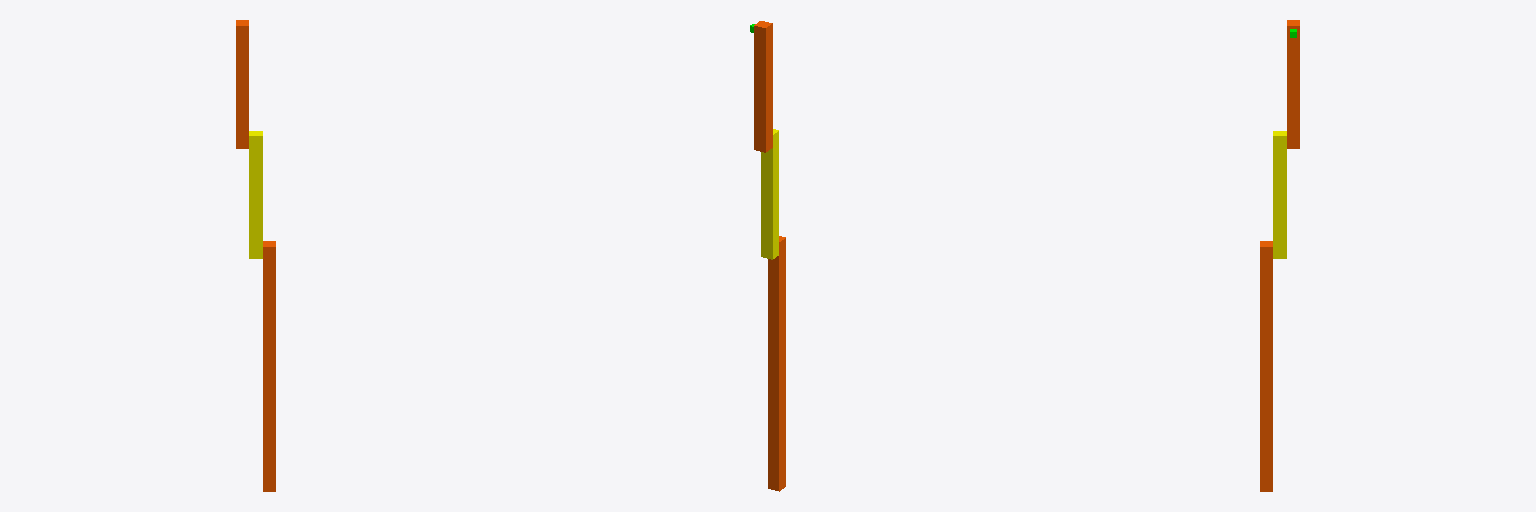
robot.urdf — rrbot:
<?xml version="1.0" ?>
<!-- =================================================================================== -->
<!-- |    This document was autogenerated by xacro from src/robot_gazebo/xacro/rrbot.xacro | -->
<!-- |    EDITING THIS FILE BY HAND IS NOT RECOMMENDED                                 | -->
<!-- =================================================================================== -->
<robot name="rrbot">
  <!-- ****************************************************** RRBot Robot **************************************************************  -->
  <!-- Muthanna Alwahash                                                                                                                  -->
  <!-- March 2022                                                                                                                         -->
  <!-- *********************************************************************************************************************************  -->
  <!-- ****************************************************** Parameters ***************************************************************  -->
  <!-- Link 3 -->
  <!-- ****************************************************** Includes *****************************************************************  -->
  <material name="red">
    <color rgba="1.0 0.0 0.0 1.0"/>
  </material>
  <material name="green">
    <color rgba="0.0 1.0 0.0 1.0"/>
  </material>
  <material name="blue">
    <color rgba="0.0 0.0 1.0 1.0"/>
  </material>
  <material name="black">
    <color rgba="0.3 0.3 0.3 1.0"/>
  </material>
  <material name="white">
    <color rgba="1.0 1.0 1.0 1.0"/>
  </material>
  <material name="grey">
    <color rgba="0.2 0.2 0.2 1.0"/>
  </material>
  <material name="orange">
    <color rgba="1.0 0.4235294117647059 0.0392156862745098 1.0"/>
  </material>
  <material name="brown">
    <color rgba="0.8705882352941177 0.8117647058823529 0.7647058823529411 1.0"/>
  </material>
  <material name="yellow">
    <color rgba="1.0 1.0 0.0 1.0"/>
  </material>
  <!-- ****************************************************** RRBot Robot **************************************************************  -->
  <!-- Muthanna Alwahash                                                                                                                  -->
  <!-- March 2022                                                                                                                         -->
  <!-- *********************************************************************************************************************************  -->
  <!-- ****************************************************** Base Link ****************************************************************  -->
  <gazebo reference="base">
    <mu1>0.2</mu1>
    <mu2>0.2</mu2>
    <material>Gazebo/Orange</material>
  </gazebo>
  <!-- ****************************************************** Link 1 *******************************************************************  -->
  <gazebo reference="link2">
    <mu1>0.2</mu1>
    <mu2>0.2</mu2>
    <material>Gazebo/Orange</material>
  </gazebo>
  <!-- ****************************************************** Link 2 *******************************************************************  -->
  <gazebo reference="link3">
    <mu1>0.2</mu1>
    <mu2>0.2</mu2>
    <material>Gazebo/Orange</material>
  </gazebo>
  <!-- ****************************************************** Camera Link **************************************************************  -->
  <gazebo reference="camera">
    <mu1>0.2</mu1>
    <mu2>0.2</mu2>
    <material>Gazebo/Green</material>
  </gazebo>
  <!-- ****************************************************** World Link ****************************************************************  -->
  <link name="world"/>
  <gazebo reference="world">
    <static>true</static>
  </gazebo>
  <!-- ****************************************************** ROS Control Plugin *******************************************************  -->
  <gazebo>
    <plugin filename="libgazebo_ros2_control.so" name="gz_ros2_control">
      <parameters>[local-path]/ws/install/robot_gazebo/share/robot_gazebo/config/rrbot_gazebo_forward_controller_position.yaml</parameters>
    </plugin>
  </gazebo>
  <!-- ******************************************************  Joint States Publisher **************************************************  -->
  <gazebo>
    <plugin filename="libgazebo_ros_joint_state_publisher.so" name="joint_states_pub">
      <ros>
        <namespace>rrbot</namespace>
      </ros>
      <joint_name>base_joint</joint_name>
      <joint_name>joint1</joint_name>
      <joint_name>joint2</joint_name>
      <update_rate>100.0</update_rate>
    </plugin>
  </gazebo>
  <!-- ******************************************************  Camera ******************************************************************  -->
  <gazebo reference="camera">
    <sensor name="camera" type="camera">
      <update_rate>30.0</update_rate>
      <camera name="head">
        <horizontal_fov>1.3962634015954636</horizontal_fov>
        <image>
          <width>1280</width>
          <height>720</height>
          <format>R8G8B8</format>
        </image>
        <clip>
          <near>0.02</near>
          <far>300</far>
        </clip>
        <noise>
          <type>gaussian</type>
          <!-- Noise is sampled independently per pixel on each frame.
          That pixel's noise value is added to each of its color
          channels, which at that point lie in the range [0,1]. -->
          <mean>0.0</mean>
          <stddev>0.007</stddev>
        </noise>
      </camera>
      <plugin filename="libgazebo_ros_camera.so" name="camera_controller">
        <ros>
          <namespace>rrbot</namespace>
        </ros>
        <alwaysOn>true</alwaysOn>
        <updateRate>0.0</updateRate>
        <cameraName>camera</cameraName>
        <imageTopicName>image_raw</imageTopicName>
        <cameraInfoTopicName>camera_info</cameraInfoTopicName>
        <frameName>camera_optical</frameName>
        <!-- setting hackBaseline to anything but 0.0 will cause a misalignment
        between the gazebo sensor image and the frame it is supposed to
        be attached to -->
        <hackBaseline>0.0</hackBaseline>
        <distortionK1>0.0</distortionK1>
        <distortionK2>0.0</distortionK2>
        <distortionK3>0.0</distortionK3>
        <distortionT1>0.0</distortionT1>
        <distortionT2>0.0</distortionT2>
        <CxPrime>0</CxPrime>
        <Cx>0.0</Cx>
        <Cy>0.0</Cy>
        <focalLength>0.0</focalLength>
      </plugin>
    </sensor>
    <material>Gazebo/Green</material>
  </gazebo>
  <!-- ****************************************************** hokuyo  ******************************************************************  -->
  <gazebo reference="hokuyo">
    <sensor name="head_hokuyo_sensor" type="ray">
      <plugin filename="libgazebo_ros_ray_sensor.so" name="hokuyo">
        <ros>
          <namespace>rrbot</namespace>
        </ros>
        <output_type>sensor_msgs/LaserScan</output_type>
      </plugin>
      <update_rate>30</update_rate>
      <pose>0 0 0 0 0 0</pose>
      <visualize>false</visualize>
      <ray>
        <scan>
          <horizontal>
            <samples>720</samples>
            <resolution>1</resolution>
            <min_angle>-3.141592653589793</min_angle>
            <max_angle> 3.141592653589793</max_angle>
          </horizontal>
        </scan>
        <range>
          <min>0.10</min>
          <max>30.0</max>
          <resolution>0.01</resolution>
        </range>
        <!-- Noise parameters based on published spec for Hokuyo laser achieving "+-30mm" accuracy at range < 10m.  A mean of 0.0m and stddev   -->
        <!-- of 0.01m will put 99.7% of samples within 0.03m of the true reading.                                                               -->
        <noise>
          <type>gaussian</type>
          <mean>0.0</mean>
          <stddev>0.01</stddev>
        </noise>
      </ray>
    </sensor>
    <!-- <material>Gazebo/Red</material> -->
  </gazebo>
  <!-- ****************************************************** END **********************************************************************  -->
  <!--  Gazebo                                    -->
  <!-- ****************************************************** Base Joint ***************************************************************  -->
  <joint name="base_joint" type="fixed">
    <origin rpy="0 0 0" xyz="0 0 0"/>
    <parent link="world"/>
    <child link="base"/>
  </joint>
  <!-- ****************************************************** Base Link ****************************************************************  -->
  <link name="base">
    <collision>
      <origin rpy="0 0 0" xyz="0 0 1.0"/>
      <geometry>
        <box size="0.1 0.1 2"/>
      </geometry>
    </collision>
    <visual>
      <origin rpy="0 0 0" xyz="0 0 1.0"/>
      <geometry>
        <box size="0.1 0.1 2"/>
      </geometry>
      <material name="orange"/>
    </visual>
    <inertial>
      <origin rpy="0 0 0" xyz="0 0 1.0"/>
      <mass value="1"/>
      <inertia ixx="0.3341666666666666" ixy="0.0" ixz="0.0" iyy="0.3341666666666666" iyz="0.0" izz="0.001666666666666667"/>
    </inertial>
  </link>
  <!-- ****************************************************** Joint 1 ******************************************************************  -->
  <joint name="joint1" type="continuous">
    <parent link="base"/>
    <child link="link2"/>
    <origin rpy="0 0 0" xyz="0 0.1 1.95"/>
    <axis xyz="0 1 0"/>
    <dynamics damping="0.7"/>
  </joint>
  <!-- ****************************************************** Link 2 *******************************************************************  -->
  <link name="link2">
    <collision>
      <origin rpy="0 0 0" xyz="0 0 0.45"/>
      <geometry>
        <box size="0.1 0.1 1"/>
      </geometry>
    </collision>
    <visual>
      <origin rpy="0 0 0" xyz="0 0 0.45"/>
      <geometry>
        <box size="0.1 0.1 1"/>
      </geometry>
      <material name="yellow"/>
    </visual>
    <inertial>
      <origin rpy="0 0 0" xyz="0 0 0.45"/>
      <mass value="1"/>
      <inertia ixx="0.08416666666666667" ixy="0.0" ixz="0.0" iyy="0.08416666666666667" iyz="0.0" izz="0.001666666666666667"/>
    </inertial>
  </link>
  <!-- ****************************************************** Joint 2 ******************************************************************  -->
  <joint name="joint2" type="continuous">
    <parent link="link2"/>
    <child link="link3"/>
    <origin rpy="0 0 0" xyz="0 0.1 0.9"/>
    <axis xyz="0 1 0"/>
    <dynamics damping="0.7"/>
  </joint>
  <!-- ****************************************************** Link 3 *******************************************************************  -->
  <link name="link3">
    <collision>
      <origin rpy="0 0 0" xyz="0 0 0.45"/>
      <geometry>
        <box size="0.1 0.1 1"/>
      </geometry>
    </collision>
    <visual>
      <origin rpy="0 0 0" xyz="0 0 0.45"/>
      <geometry>
        <box size="0.1 0.1 1"/>
      </geometry>
      <material name="orange"/>
    </visual>
    <inertial>
      <origin rpy="0 0 0" xyz="0 0 0.45"/>
      <mass value="1"/>
      <inertia ixx="0.08416666666666667" ixy="0.0" ixz="0.0" iyy="0.08416666666666667" iyz="0.0" izz="0.001666666666666667"/>
    </inertial>
  </link>
  <!-- ****************************************************** Tool Joint ***************************************************************  -->
  <joint name="tool_joint" type="fixed">
    <origin rpy="0 0 0" xyz="0 0 1"/>
    <parent link="link3"/>
    <child link="tool"/>
  </joint>
  <!-- ****************************************************** Tool Link ****************************************************************  -->
  <link name="tool"/>
  <!-- ****************************************************** Camera Joint *************************************************************  -->
  <joint name="camera_joint" type="fixed">
    <axis xyz="0 1 0"/>
    <origin rpy="0 0 0" xyz="0.07500000000000001 0 0.9"/>
    <parent link="link3"/>
    <child link="camera"/>
  </joint>
  <!-- ****************************************************** Camera Link **************************************************************  -->
  <link name="camera">
    <inertial>
      <mass value="1e-05"/>
      <origin rpy=" 0 0 0" xyz="0 0 0"/>
      <inertia ixx="1e-6" ixy="0" ixz="0" iyy="1e-6" iyz="0" izz="1e-6"/>
    </inertial>
    <visual name="camera_visual">
      <origin rpy="0 0 0" xyz="0 0 0"/>
      <geometry>
        <box size="0.05 0.05 0.05"/>
      </geometry>
      <material name="green"/>
    </visual>
    <collision name="camera_colision">
      <origin rpy="0 0 0" xyz="0 0 0"/>
      <geometry>
        <box size="0.05 0.05 0.05"/>
      </geometry>
    </collision>
  </link>
  <!-- ****************************************************** Camera Optical Joint *****************************************************  -->
  <!-- generate an optical frame http://www.ros.org/reps/rep-0103.html#suffix-frames so that ros and opencv can operate on the camera     -->
  <!-- frame correctly. these values have to be these values otherwise the gazebo camera image won't be aligned properly with the frame   -->
  <!-- it is supposedly originating from                                                                                                  -->
                                                                                                                     --&gt;

  
  <joint name="camera_optical_joint" type="fixed">
    <origin rpy="-1.5707963267948966 0 -1.5707963267948966" xyz="0 0 0"/>
    <parent link="camera"/>
    <child link="camera_optical"/>
  </joint>
  <!-- ****************************************************** Camera Optical Link ******************************************************  -->
  <link name="camera_optical"/>
  <!-- ****************************************************** Hokuyo Joint *************************************************************  -->
  <joint name="hokuyo_joint" type="fixed">
    <axis xyz="0 1 0"/>
    <origin rpy="0 0 0" xyz="0 0 0.975"/>
    <parent link="link3"/>
    <child link="hokuyo"/>
  </joint>
  <!-- ****************************************************** Hokuyo Link **************************************************************  -->
  <link name="hokuyo">
    <collision>
      <origin rpy="0 0 0" xyz="0 0 0"/>
      <geometry>
        <mesh filename="package://robot_gazebo/meshes/rrbot/hokuyo.dae"/>
        <!--  <box size="${hokuyo_length} ${hokuyo_width} ${hokuyo_height}"/> -->
      </geometry>
    </collision>
    <visual>
      <origin rpy="0 0 0" xyz="0 0 0"/>
      <geometry>
        <mesh filename="package://robot_gazebo/meshes/rrbot/hokuyo.dae"/>
        <!--  <box size="${hokuyo_length} ${hokuyo_width} ${hokuyo_height}"/> -->
      </geometry>
    </visual>
    <inertial>
      <mass value="1e-05"/>
      <origin rpy="0 0 0" xyz="0 0 0"/>
      <inertia ixx="1e-6" ixy="0" ixz="0" iyy="1e-6" iyz="0" izz="1e-6"/>
    </inertial>
  </link>
  <!-- ****************************************************** END **********************************************************************  -->
</robot>

--- Render facts (derived) ---
3 views of the same robot in one strip: view 1: azimuth 90°, elevation 25°; view 2: azimuth 150°, elevation 25°; view 3: azimuth 270°, elevation 25° (orthographic).
Robot: rrbot — 8 links, 7 joints (2 continuous, 5 fixed); root link world; default pose: every joint at zero.
Visible links, largest first — view 1: base, link2, link3; view 2: base, link3, link2; view 3: base, link2, link3.
Boxes of the visible links, bbox=[...] form: base: bbox=[263, 241, 275, 491]; link2: bbox=[249, 131, 262, 258]; link3: bbox=[236, 20, 248, 148]; base: bbox=[768, 236, 785, 491]; link3: bbox=[754, 21, 772, 152]; link2: bbox=[761, 129, 778, 259]; base: bbox=[1260, 241, 1272, 491]; link2: bbox=[1273, 131, 1286, 258]; link3: bbox=[1287, 20, 1299, 148].
Bounding box of the posed robot: 0.15 × 0.3 × 3.8 m (x, y, z).
Meshes: 1 distinct files referenced, 0 mesh visuals loaded (none loaded); not drawn: 1 (reference not matched to a file when rendering).
